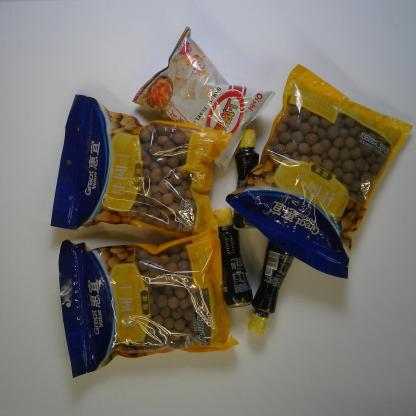Dried Food: (224, 63, 415, 280), (58, 224, 240, 379), (49, 92, 232, 240)
Puffed Food: (130, 24, 278, 174)
Seasoner: (246, 241, 295, 335), (213, 207, 254, 308), (232, 127, 260, 230)
